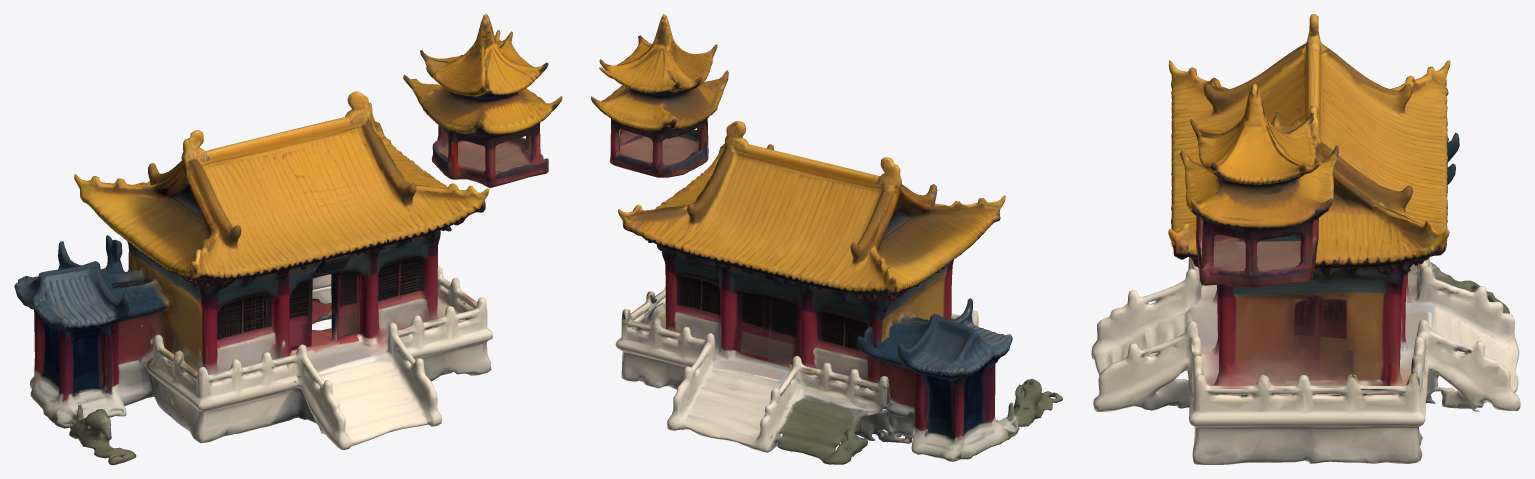
The picture shows the model from 3 angles, left to right: view 1: azimuth 30°, elevation 25°; view 2: azimuth 150°, elevation 25°; view 3: azimuth 270°, elevation 25°; orthographic projection. The views are drawn at different scales.
Visible parts, largest first — view 1: material.001; view 2: material.001; view 3: material.001.
Boxes of the visible parts, bbox=[...] form: material.001: bbox=[14, 14, 562, 464]; material.001: bbox=[591, 14, 1062, 464]; material.001: bbox=[1091, 14, 1520, 464].
Bounding box in the file's own units: 0.97 × 0.6827 × 0.672.
1 material, 1 textured.
